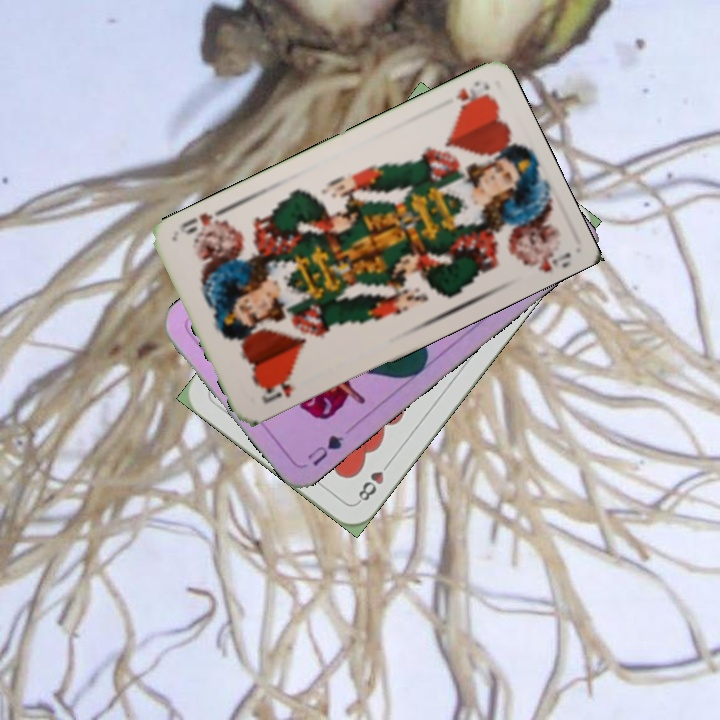GU: (303, 430, 347, 469)
H8: (353, 456, 394, 506)
HO: (451, 76, 493, 114), (257, 370, 299, 406)
